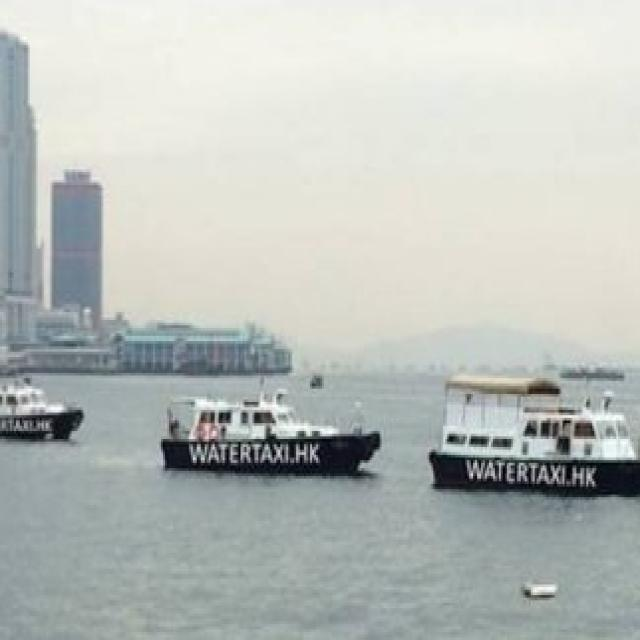houseboat: (423, 354, 640, 502), (156, 362, 389, 470)
